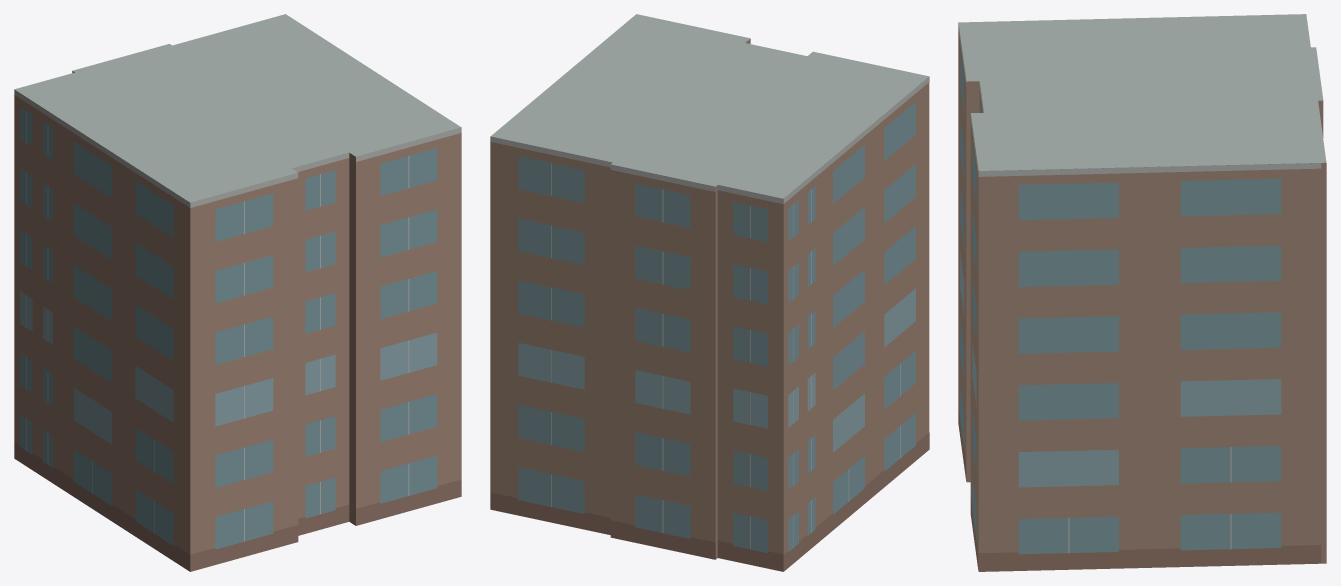
Rendered from survey-upis-32726697.glb.
The picture shows the model from 3 angles, left to right: view 1: azimuth 30°, elevation 25°; view 2: azimuth 150°, elevation 25°; view 3: azimuth 270°, elevation 25°; orthographic projection. The views are drawn at different scales.
Parts seen in each view (by area): view 1: survey-upis-32726697.tmp; view 2: survey-upis-32726697.tmp; view 3: survey-upis-32726697.tmp.
Boxes of the visible parts, bbox=[...] form: survey-upis-32726697.tmp: bbox=[14, 14, 461, 571]; survey-upis-32726697.tmp: bbox=[490, 14, 929, 571]; survey-upis-32726697.tmp: bbox=[958, 14, 1326, 571].
Bounding box in the file's own units: 14.13 × 16.8 × 13.99.
